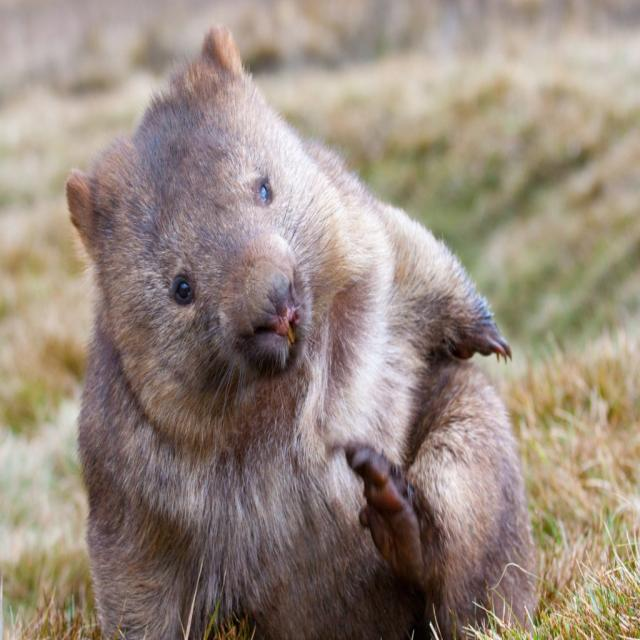Wombat: (56, 19, 538, 638)
